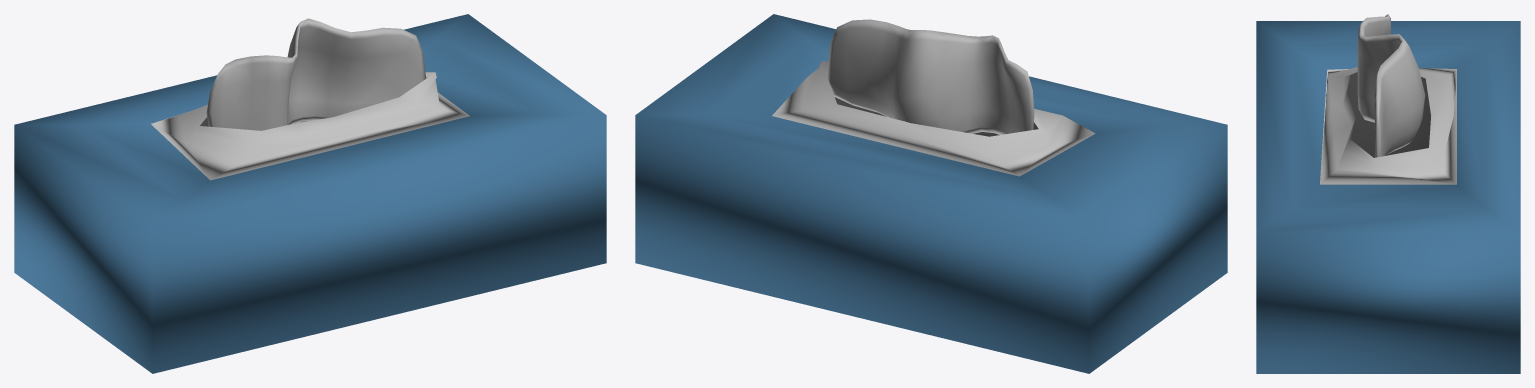
The model's file is Tissue Box.fbx.
The picture shows the model from 3 angles, left to right: view 1: azimuth 30°, elevation 25°; view 2: azimuth 150°, elevation 25°; view 3: azimuth 270°, elevation 25°; orthographic projection. The views are drawn at different scales.
Visible parts, largest first — view 1: Cube; view 2: Cube; view 3: Cube.
Part boxes in pixels (bbox=[...]): Cube: bbox=[14, 14, 606, 373]; Cube: bbox=[635, 14, 1227, 373]; Cube: bbox=[1256, 14, 1520, 373].
Size of the model in its own units: 235 by 120 by 124.
